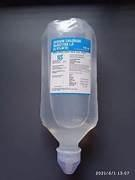Iv_Bottle: (40, 18, 97, 173)
